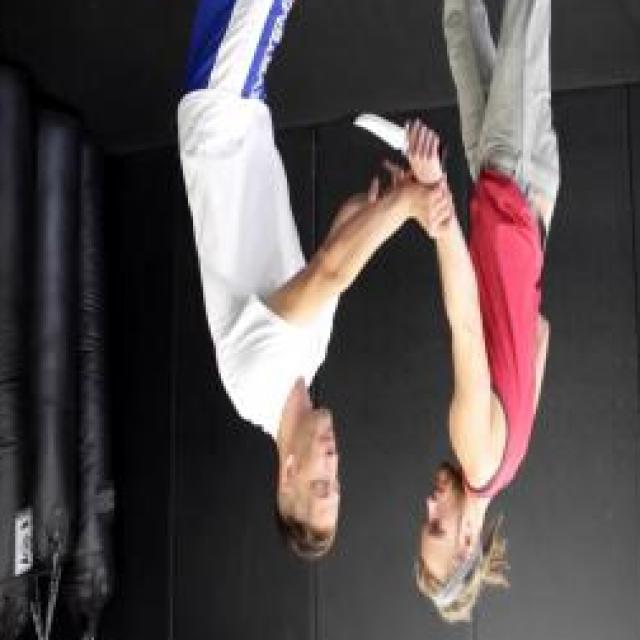knife: (346, 100, 450, 170)
